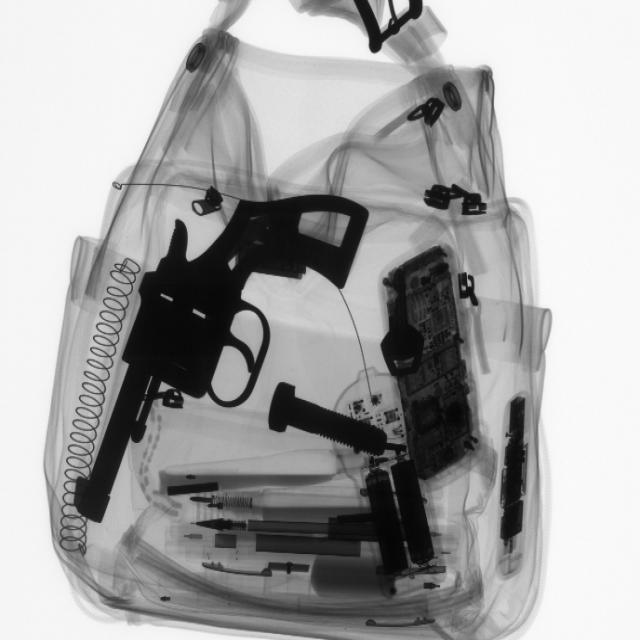GUN: (64, 192, 381, 524)
